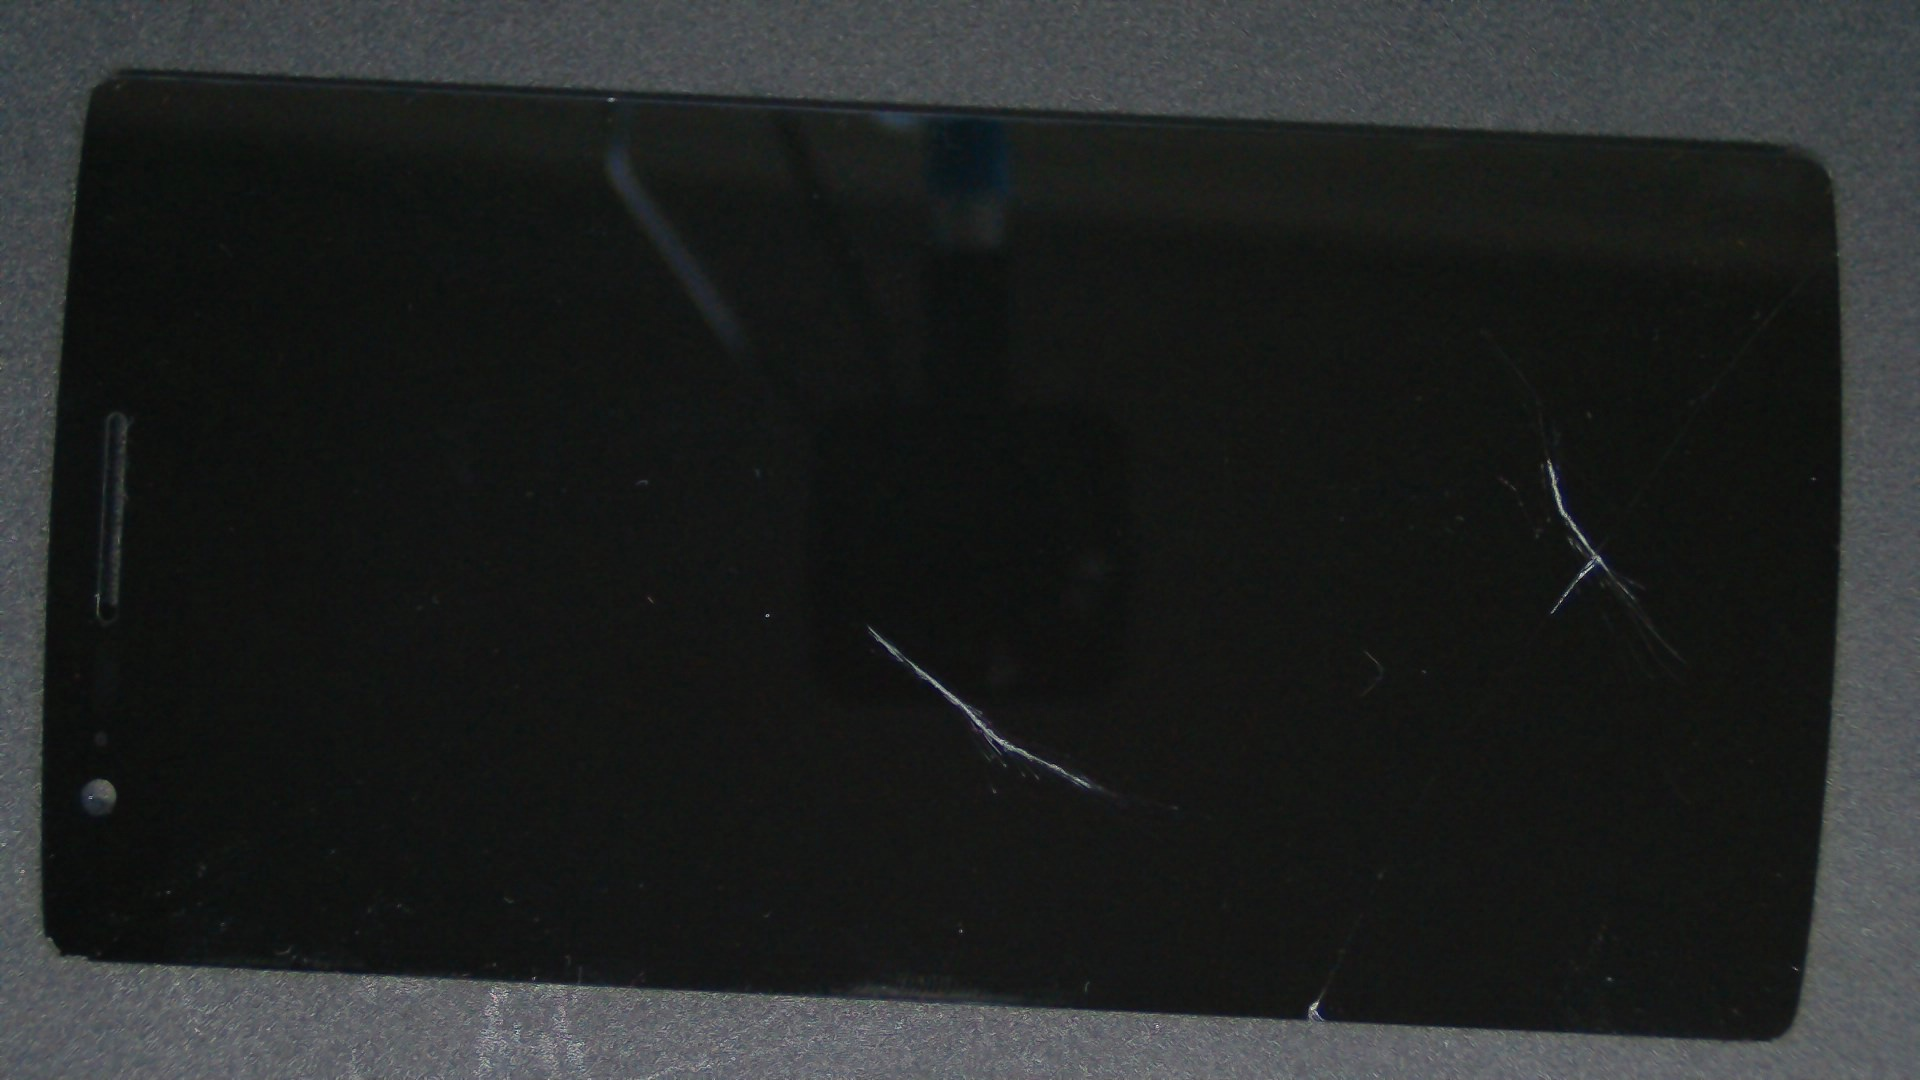oil: (433, 313, 1299, 938), (774, 228, 1920, 687)
